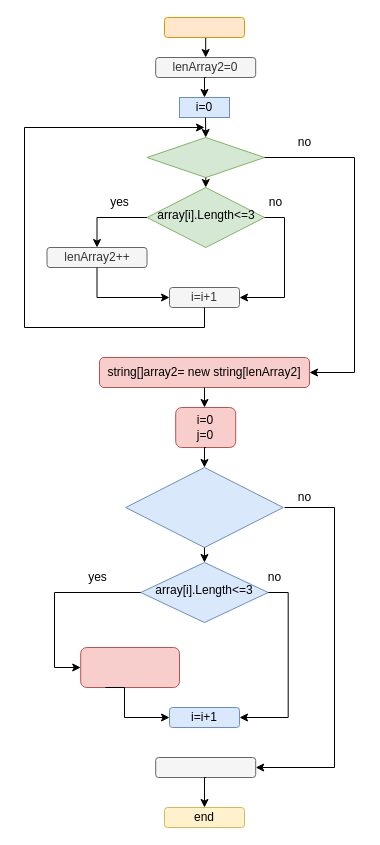
This 380x845 diagram has some shape labels left out. Each missing label, with the centre of its shape:
"array2[j]=array[i] j=j=1" goes at (130,667).
"i<array.Length" goes at (205,157).
"i<array.Length & j<lenArray2" goes at (204,507).
"return array2" goes at (205,767).
"start" goes at (204,27).
